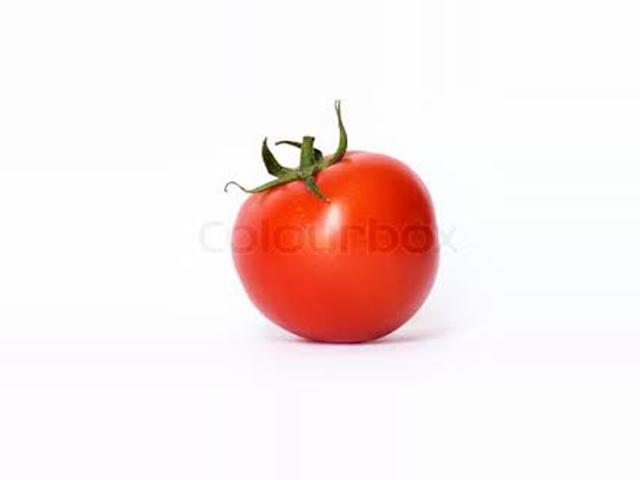tomato: (233, 150, 439, 340)
